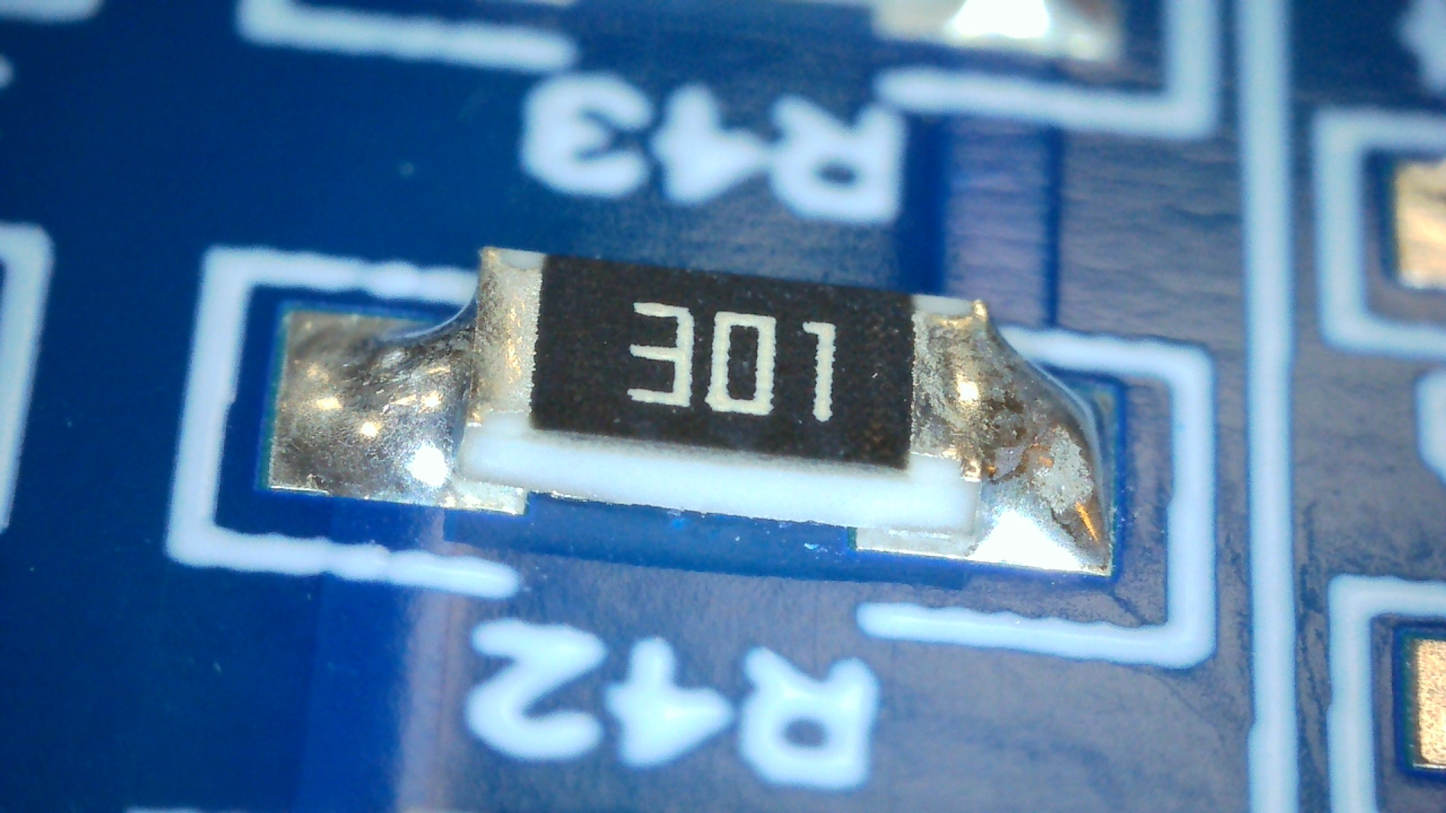NG: (360, 248, 541, 484)
OK: (911, 296, 1107, 570)
